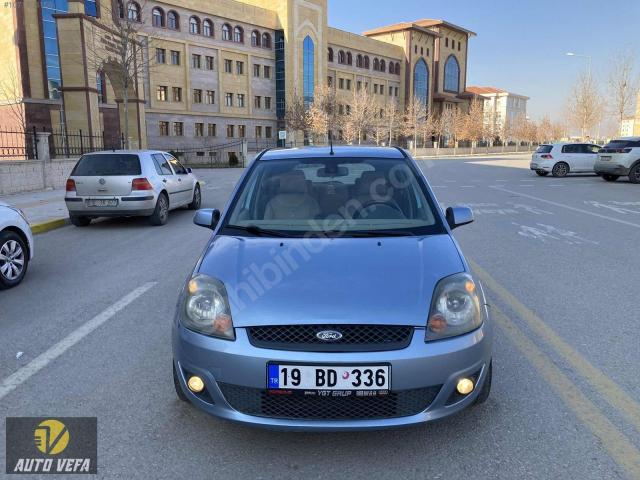plaka: (268, 365, 390, 394), (87, 199, 117, 206)
